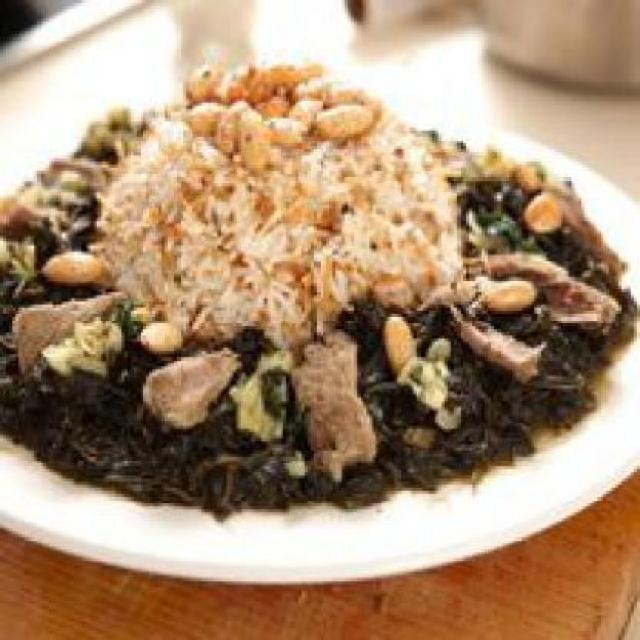fried rice: (106, 58, 457, 330)
